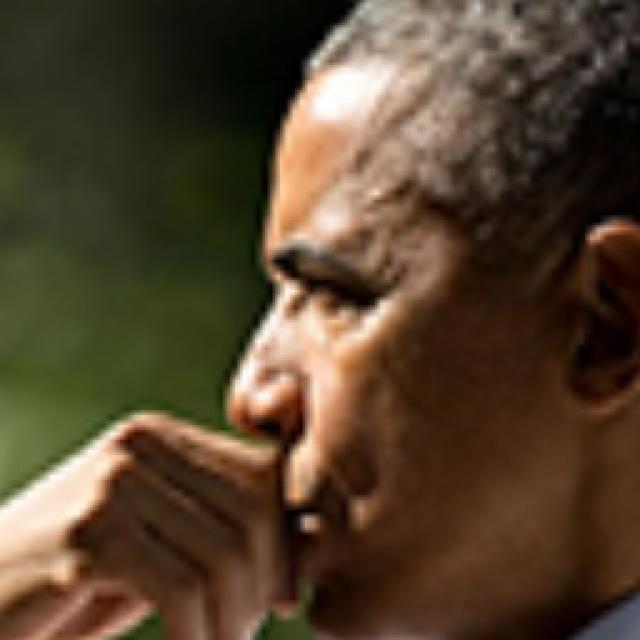no-glasses: (263, 246, 387, 338)
